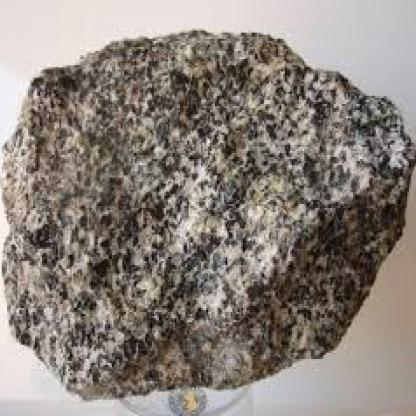Igneous_Diorite: (47, 100, 330, 336)
